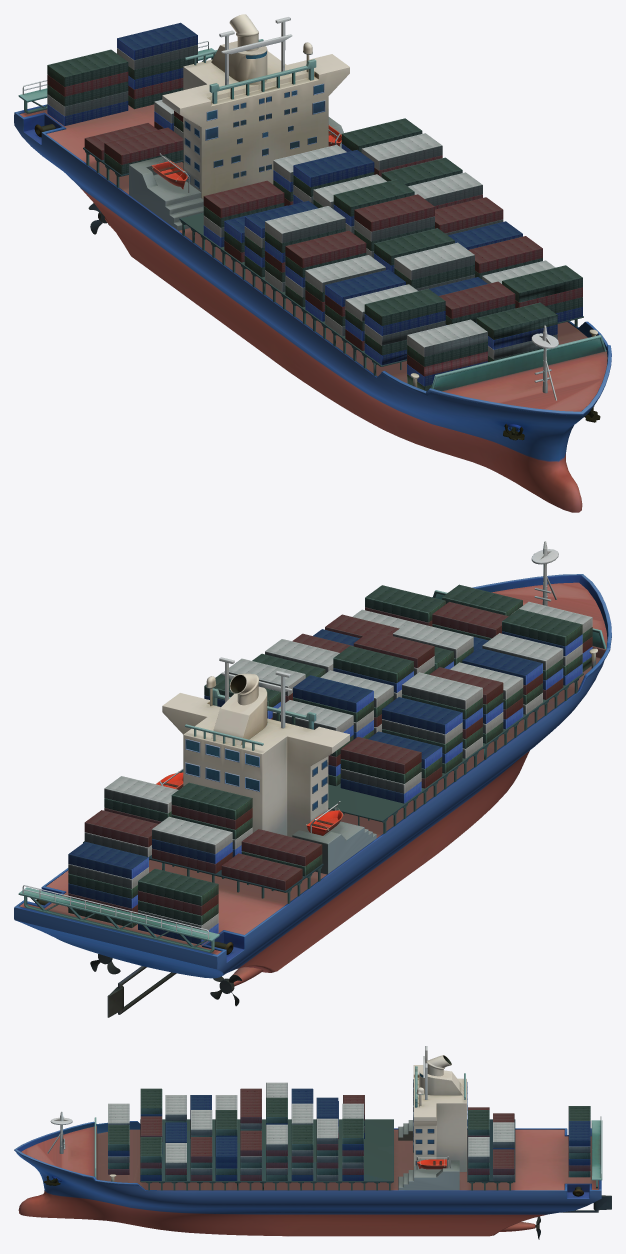
Rendered from ship.glb.
3 views of the same model, one above another, from view 1: azimuth 30°, elevation 25°; view 2: azimuth 150°, elevation 25°; view 3: azimuth 270°, elevation 25° (orthographic). The views are drawn at different scales.
Visible parts, largest first — view 1: ocean_freighter.1; view 2: ocean_freighter.1; view 3: ocean_freighter.1.
Boxes of the visible parts, bbox=[...] form: ocean_freighter.1: bbox=[14, 14, 611, 512]; ocean_freighter.1: bbox=[14, 541, 611, 1017]; ocean_freighter.1: bbox=[14, 1046, 611, 1239].
Size of the model in its own units: 25 by 30 by 100.
Materials: 1 (1 with a texture image).
